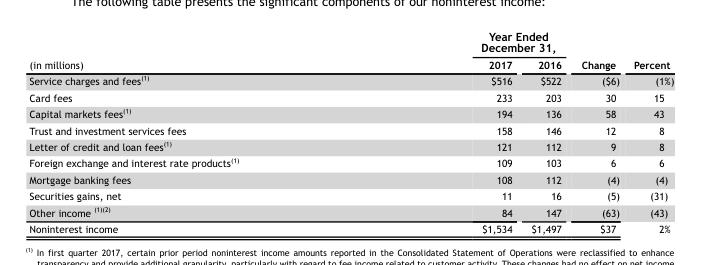table: (28, 28, 673, 234)
table column: (28, 28, 359, 234), (359, 28, 521, 234), (570, 28, 625, 234), (521, 28, 570, 234), (625, 28, 673, 234)
table column header: (28, 28, 673, 71)
table row: (28, 28, 673, 55), (28, 71, 673, 88), (28, 104, 673, 121), (28, 153, 673, 170), (28, 170, 673, 187), (28, 203, 673, 220), (28, 55, 673, 71), (28, 88, 673, 104), (28, 121, 673, 137), (28, 137, 673, 153), (28, 187, 673, 203), (28, 220, 673, 234)
table spanning cell: (28, 28, 359, 71), (359, 28, 570, 55), (570, 28, 625, 71), (625, 28, 673, 71)
